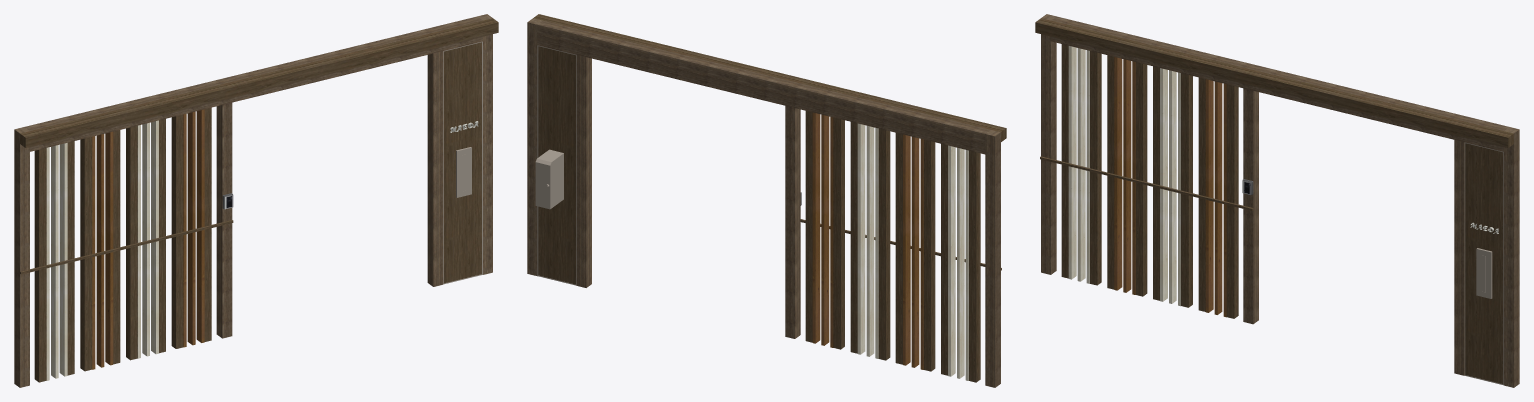
File: hym13-m_brownebony.fbx
3 renders of one model, left to right at view 1: azimuth 30°, elevation 25°; view 2: azimuth 150°, elevation 25°; view 3: azimuth 330°, elevation 25°, orthographic.
Parts seen in each view (by area): view 1: hym13-m_brownebony; view 2: hym13-m_brownebony; view 3: hym13-m_brownebony.
Part boxes in pixels (x1,y1,x2,y2): hym13-m_brownebony: (14,14,498,387); hym13-m_brownebony: (527,14,1006,387); hym13-m_brownebony: (1035,14,1519,387).
Bounding box in the file's own units: 477 × 245 × 45.65.
Materials: 11 (8 with a texture image).
